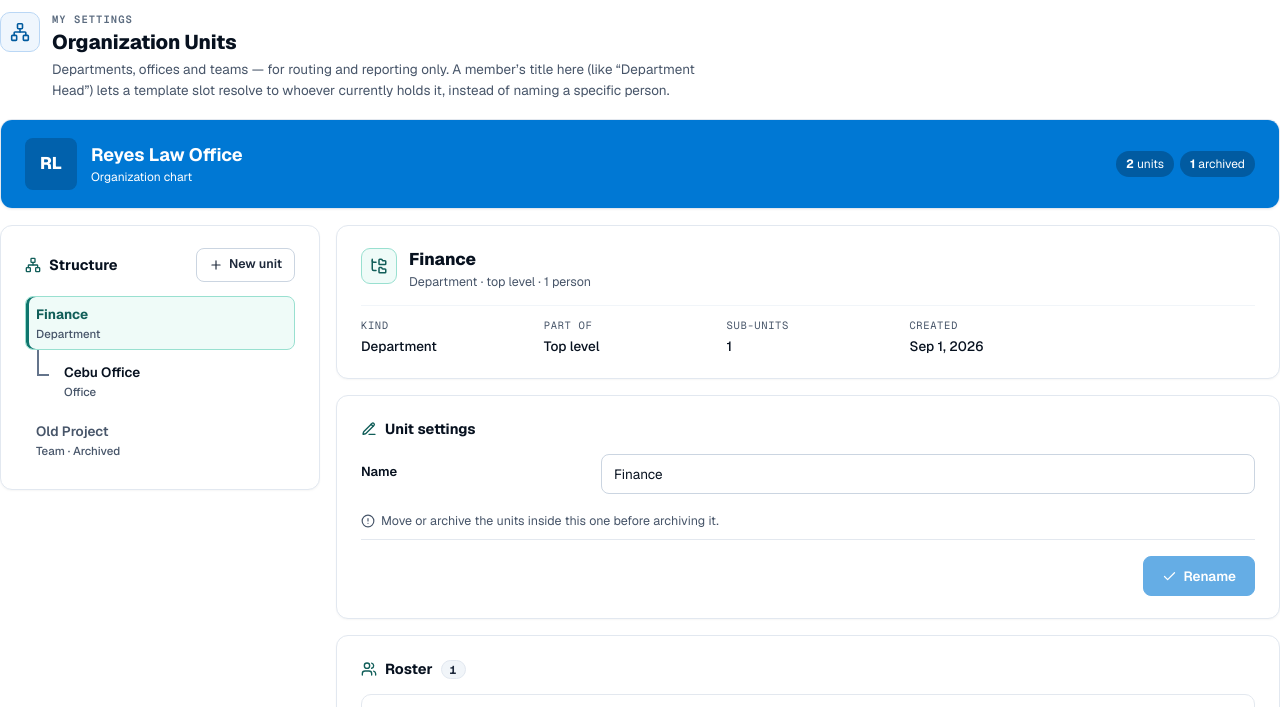
Test: Organization Units › an archived unit is read-only
Click the button with test id "org-unit-un_old" at {"x": 72, "y": 431}, box [25,413,295,467]
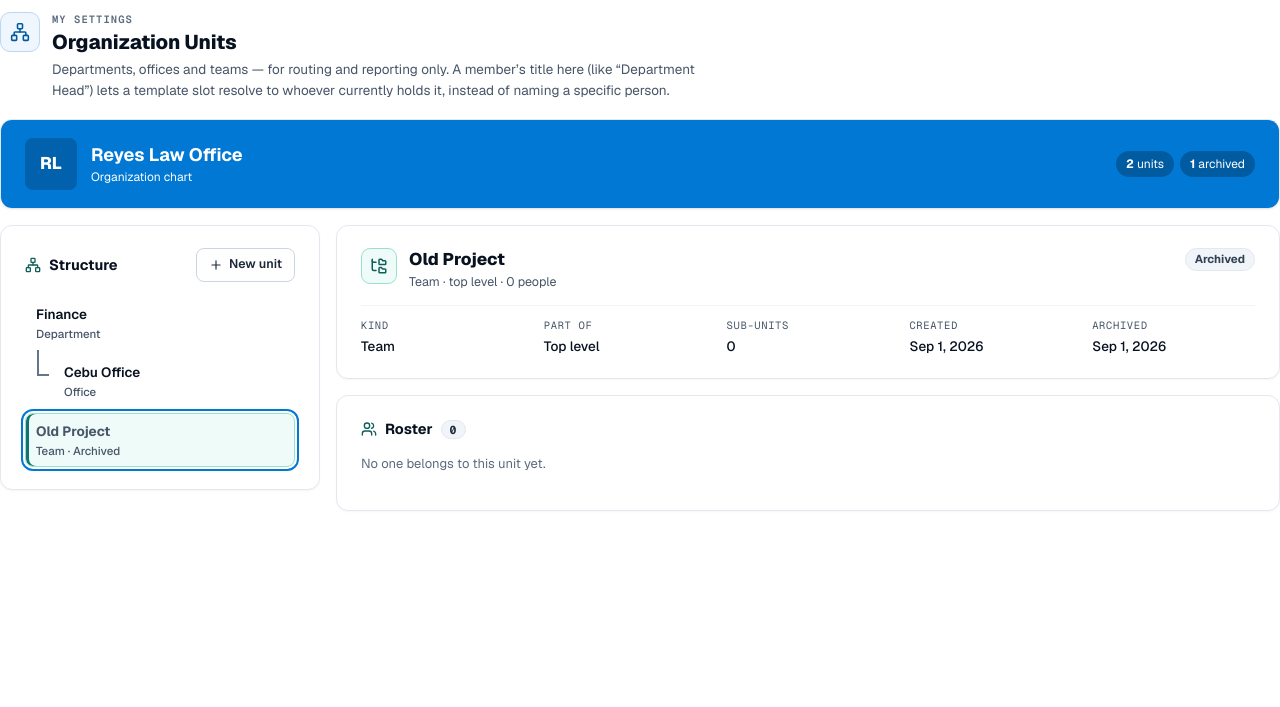
Expected: the heading with test id "org-unit-title" reads "Old Project", [409,248,505,270]
Expected: the element with test id "org-unit-actions" is gone
